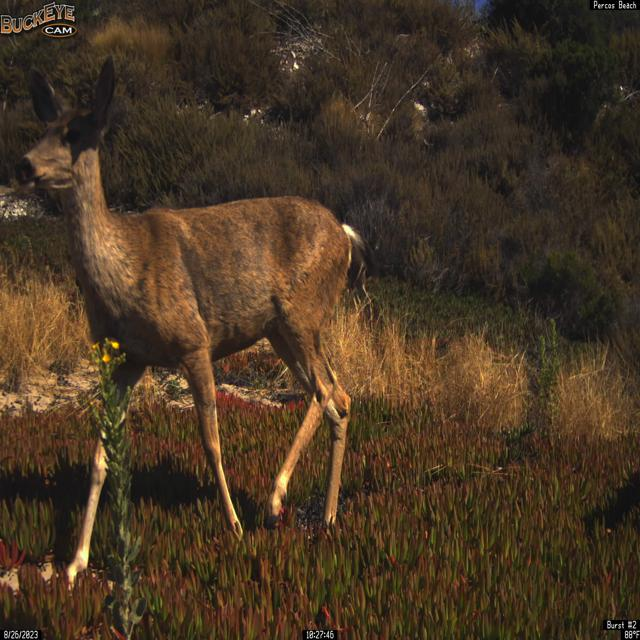deer: (12, 53, 370, 594)
